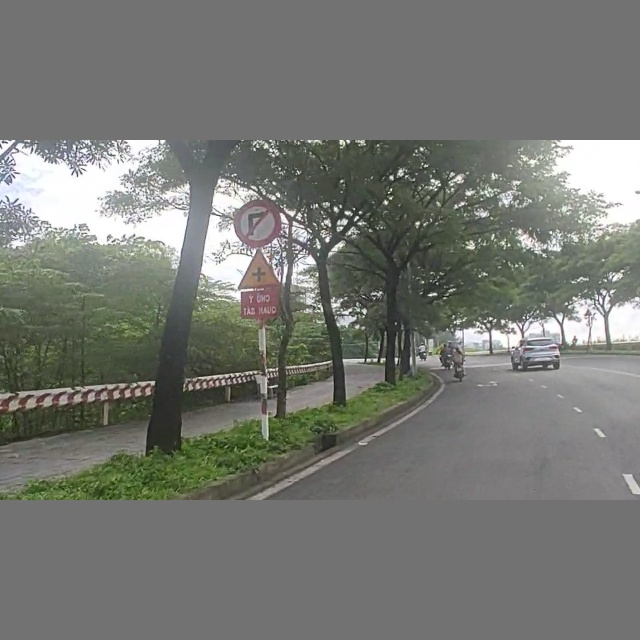P.123a: (229, 198, 281, 249)
W.205a: (235, 250, 282, 290)
